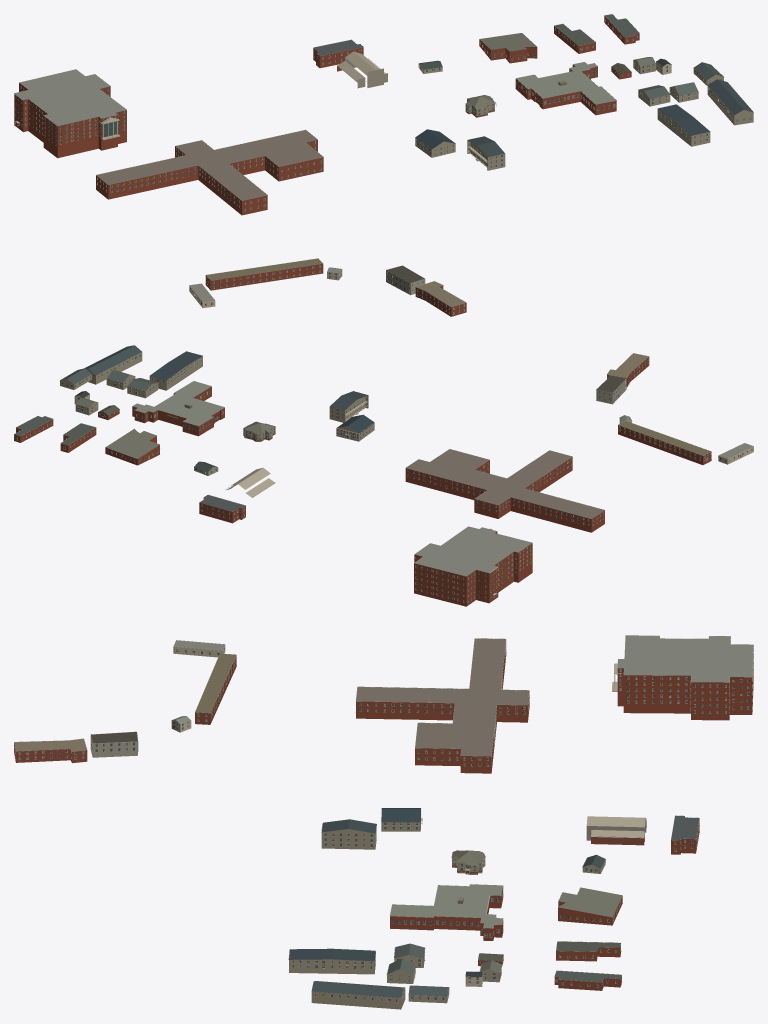
3 renders of one model, top to bottom at view 1: azimuth 30°, elevation 25°; view 2: azimuth 150°, elevation 25°; view 3: azimuth 270°, elevation 25°, orthographic. The views are drawn at different scales.
Visible parts, largest first — view 1: -2_0_188827132_0, -2_0_318264455_2, -2_0_318874199_7; view 2: -2_0_188827132_0, -2_0_318264455_2, -2_0_318874199_7; view 3: -2_0_188827132_0, -2_0_318264455_2, -2_0_318874199_7, -2_0_617093821_41.
Part boxes in pixels (box(x1,y1,x2,y2)): -2_0_188827132_0: box(14, 14, 753, 316); -2_0_318264455_2: box(415, 60, 753, 170); -2_0_318874199_7: box(386, 63, 442, 295); -2_0_188827132_0: box(14, 345, 753, 606); -2_0_318264455_2: box(60, 352, 374, 441); -2_0_318874199_7: box(194, 379, 626, 475); -2_0_188827132_0: box(14, 635, 753, 1002); -2_0_318264455_2: box(289, 822, 501, 1009); -2_0_318874199_7: box(90, 736, 605, 873); -2_0_617093821_41: box(171, 645, 482, 986).
Size of the model in its own units: 504 by 28.44 by 439.
